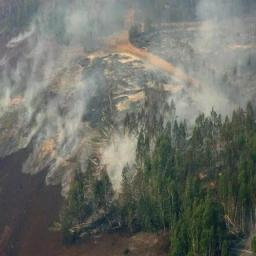Low smoke: (0, 0, 256, 193)
